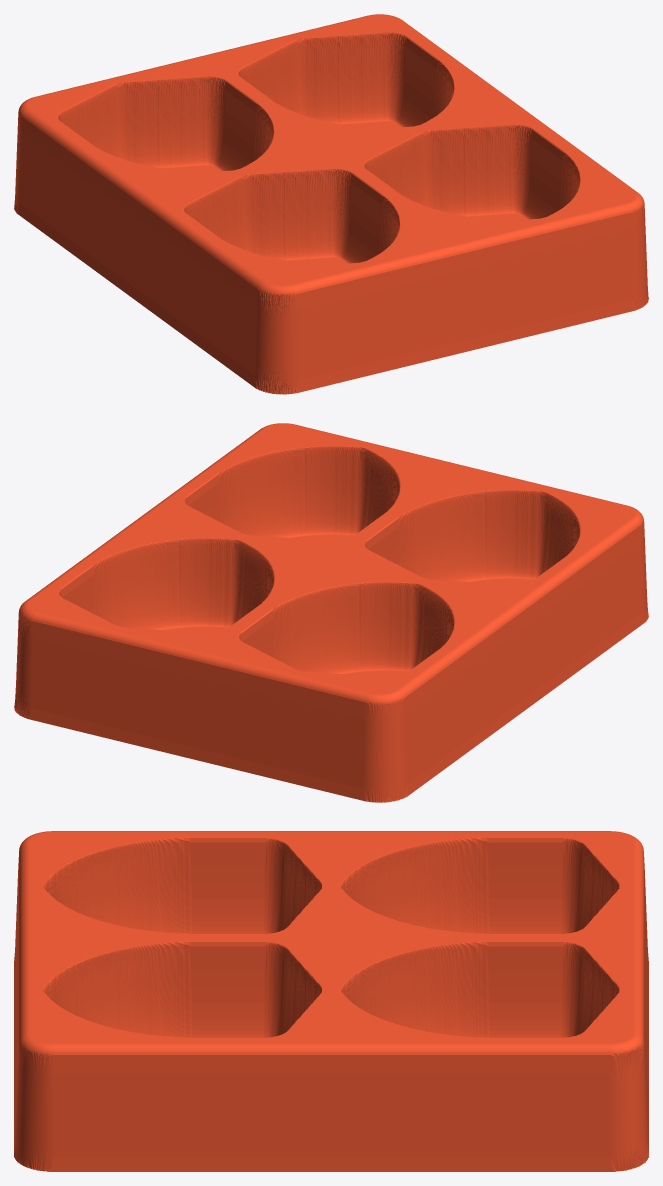
File: mold.glb
The picture shows the model from 3 angles, top to bottom: view 1: azimuth 30°, elevation 25°; view 2: azimuth 150°, elevation 25°; view 3: azimuth 270°, elevation 25°; orthographic projection. The views are drawn at different scales.
Visible parts, largest first — view 1: geometry_0; view 2: geometry_0; view 3: geometry_0.
Part boxes in pixels (x1=…): geometry_0: x1=14, y1=14, x2=648, y2=394; geometry_0: x1=14, y1=423, x2=648, y2=802; geometry_0: x1=14, y1=831, x2=648, y2=1171.
Bounding box in the file's own units: 0.1227 × 0.031 × 0.1466.
